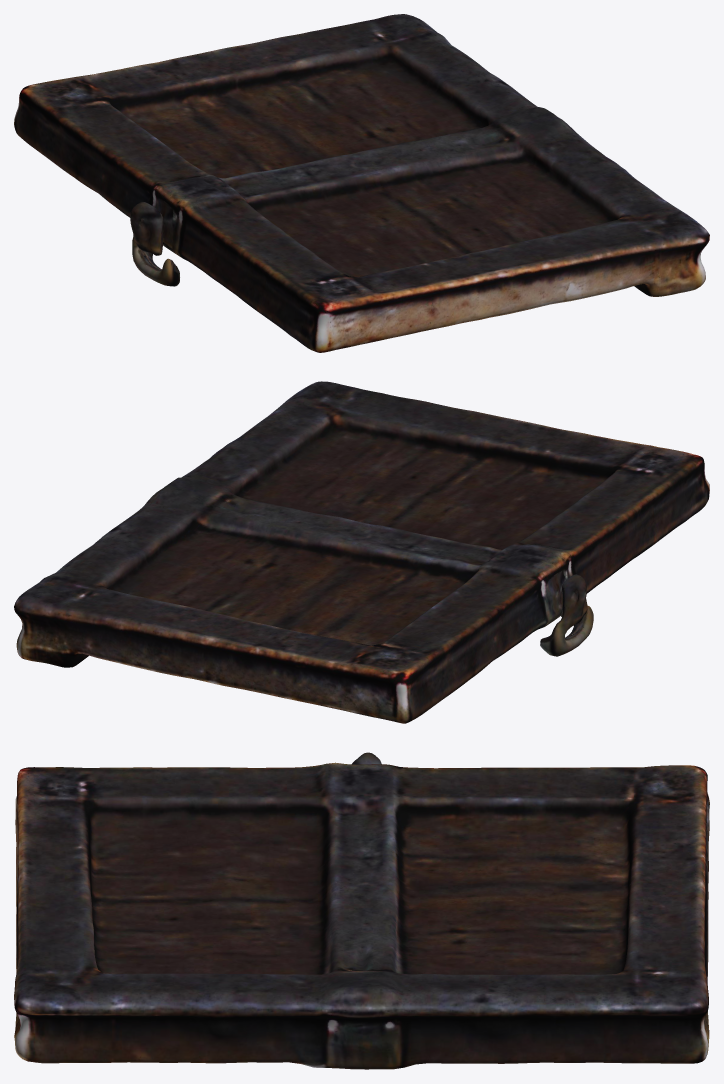
File: a223f3e2b6e4_Elongated_hatch__wo.fbx
3 renders of one model, top to bottom at view 1: azimuth 30°, elevation 25°; view 2: azimuth 150°, elevation 25°; view 3: azimuth 270°, elevation 25°, orthographic. The views are drawn at different scales.
Parts seen in each view (by area): view 1: mesh; view 2: mesh; view 3: mesh.
Part boxes in pixels (box(x1,y1,x2,y2)): mesh: box(14, 14, 709, 352); mesh: box(14, 381, 709, 723); mesh: box(14, 752, 709, 1069).
Bounding box in the file's own units: 81.1 × 15.27 × 99.91.
